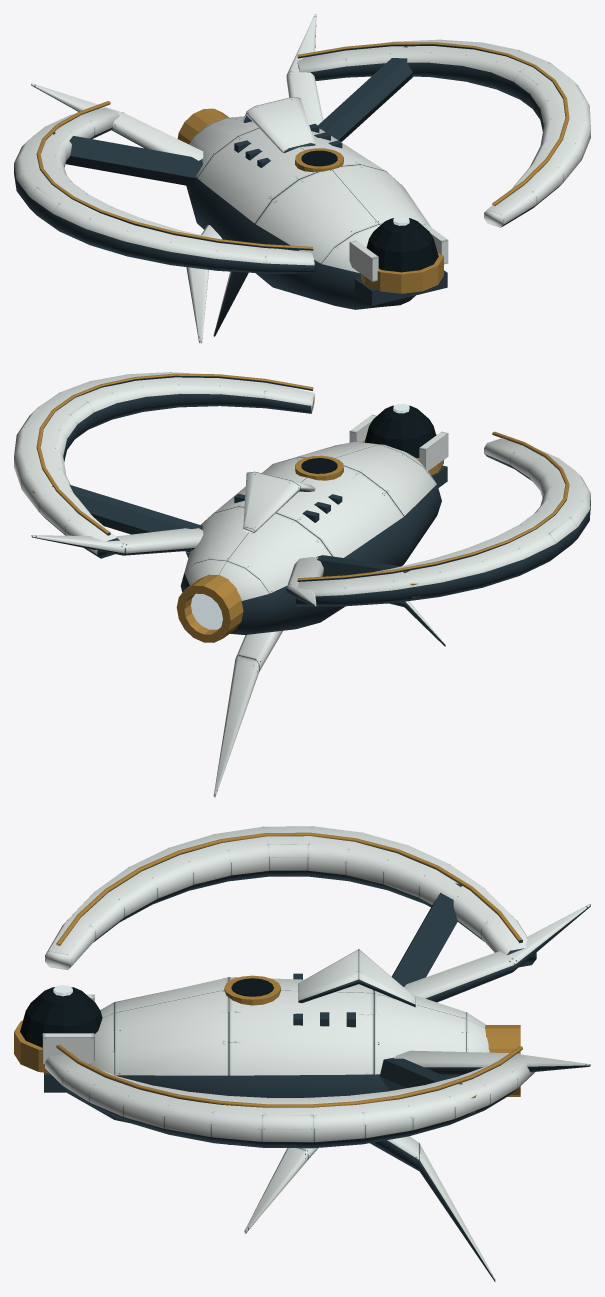
File: pioneer-europa-l10-shield.glb
The picture shows the model from 3 angles, top to bottom: view 1: azimuth 30°, elevation 25°; view 2: azimuth 150°, elevation 25°; view 3: azimuth 270°, elevation 25°; orthographic projection. The views are drawn at different scales.
Visible parts, largest first — view 1: Drone; view 2: Drone; view 3: Drone.
Boxes of the visible parts, left/top/right/bottom form: Drone: left=14, top=14, right=590, bottom=343; Drone: left=14, top=372, right=590, bottom=797; Drone: left=14, top=826, right=590, bottom=1281.
Size of the model in its own units: 1.85 by 0.9361 by 1.52.
Materials: 3 (3 with a texture image).
